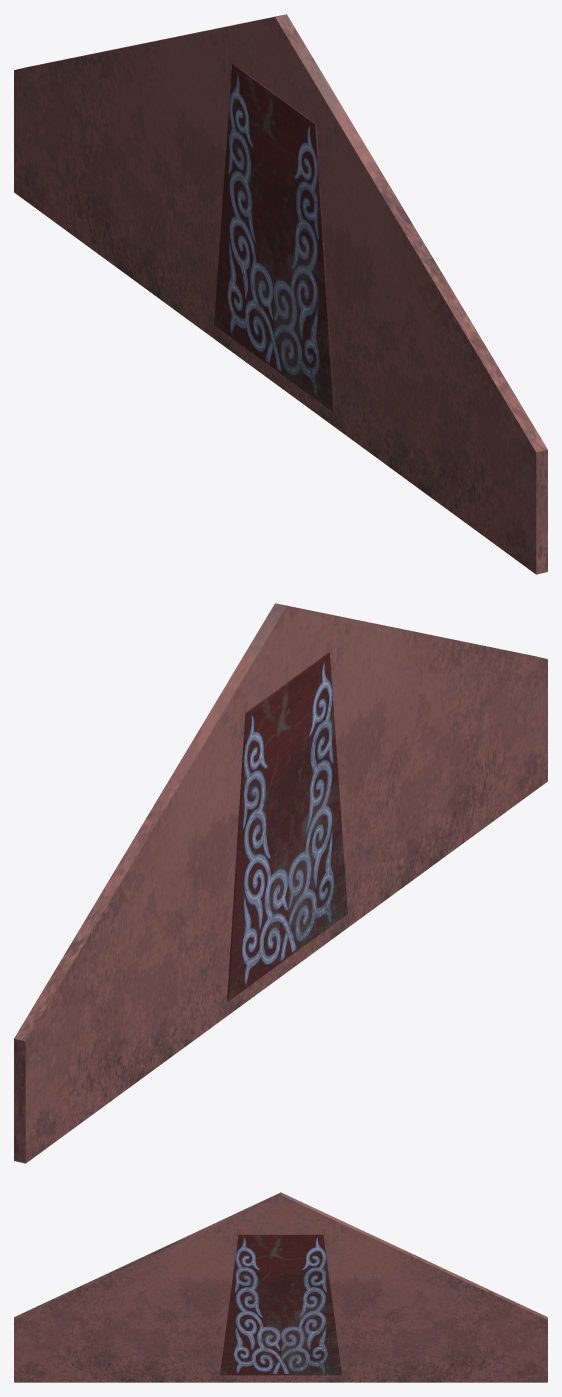
The model's file is SM_Daegong01g.fbx.
3 views of the same model, one above another, from view 1: azimuth 30°, elevation 25°; view 2: azimuth 150°, elevation 25°; view 3: azimuth 270°, elevation 25° (orthographic). The views are drawn at different scales.
Visible parts, largest first — view 1: SM_Daegong01g; view 2: SM_Daegong01g; view 3: SM_Daegong01g.
Boxes of the visible parts, <box> form: SM_Daegong01g: <box>14,14,547,574</box>; SM_Daegong01g: <box>14,603,547,1163</box>; SM_Daegong01g: <box>14,1192,547,1382</box>.
Size of the model in its own units: 5 by 310 by 120.
Materials: 1 (1 with a texture image).
